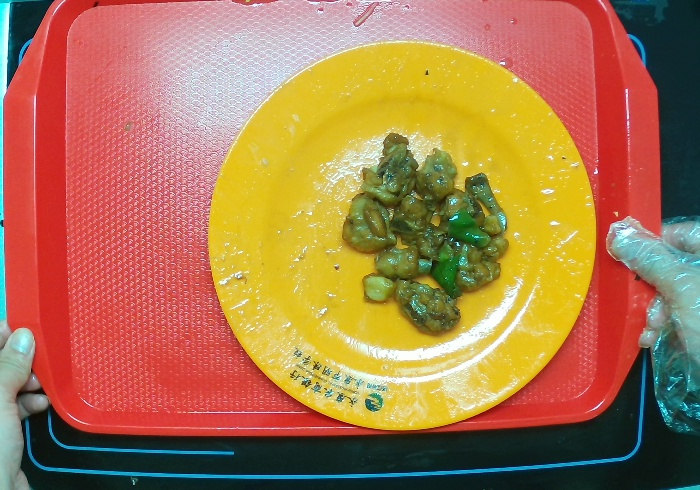YKMZ-Ju_Se_Mian_Pan: (205, 33, 599, 435)
